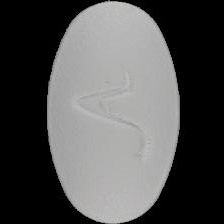21695-960: (0, 0, 224, 224)
